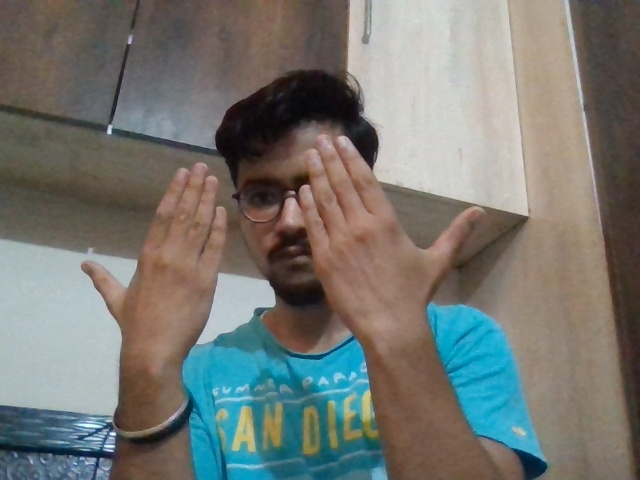thankyou: (93, 119, 472, 370)
